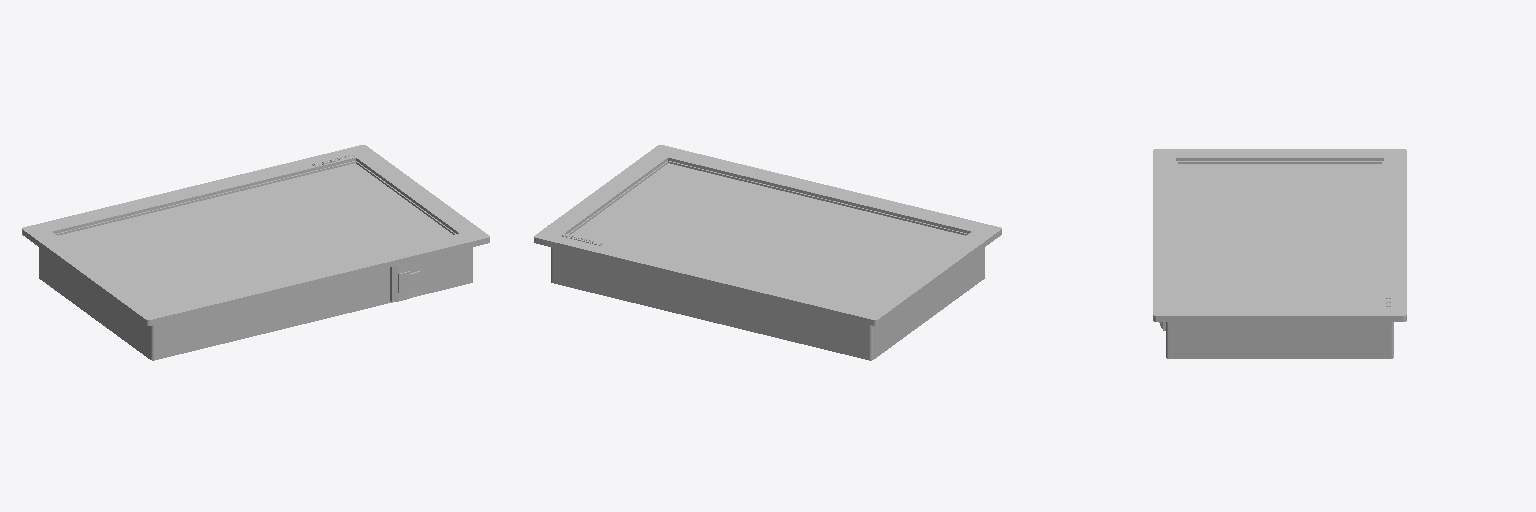
File: meera1.obj
3 renders of one model, left to right at view 1: azimuth 30°, elevation 25°; view 2: azimuth 150°, elevation 25°; view 3: azimuth 270°, elevation 25°, orthographic.
Parts seen in each view (by area): view 1: Mesh12 Model, Mesh1 Group1 Model; view 2: Mesh12 Model; view 3: Mesh12 Model.
Part boxes in pixels (x1,y1,x2,y2): Mesh12 Model: (22, 145, 489, 360); Mesh1 Group1 Model: (390, 259, 423, 301); Mesh12 Model: (534, 145, 1001, 360); Mesh12 Model: (1153, 149, 1406, 358).
Size of the model in its own units: 63.7 by 8.53 by 40.67.